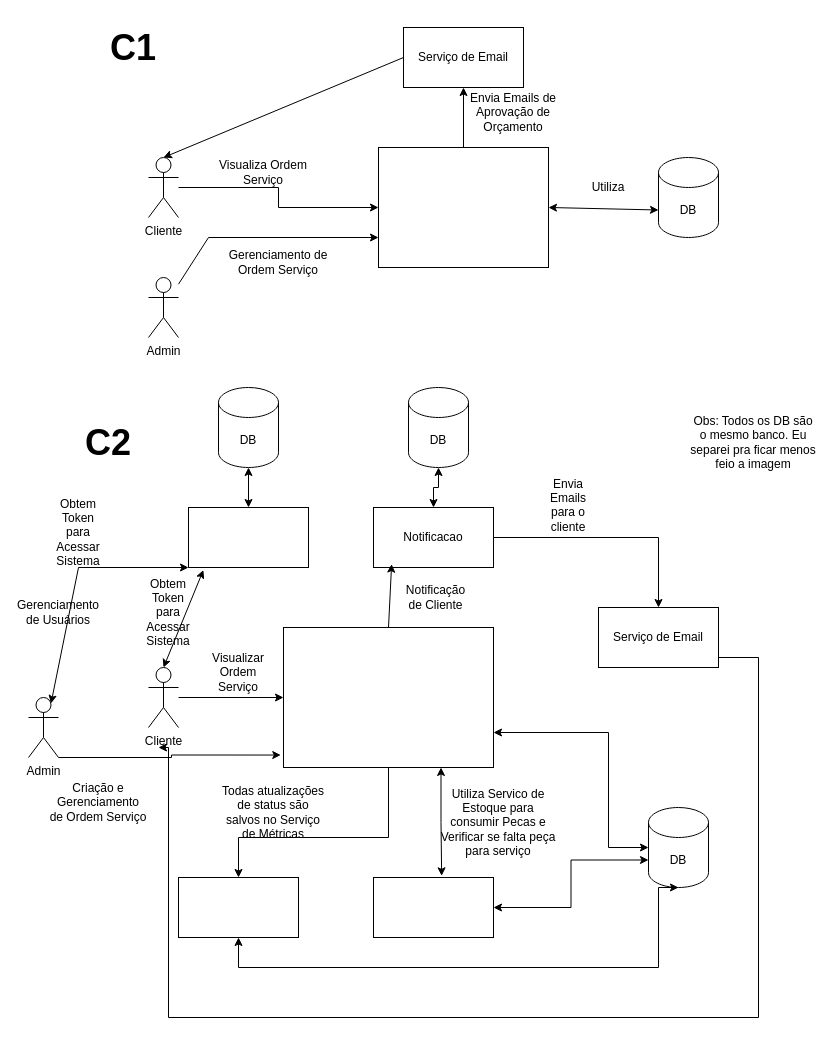
This 835x1043 diagram has some shape labels left out. Each missing label, with the centre of its shape:
Estoque: the point at 433,907
Identidade (Identity / Autenticação ): the point at 248,537
Metricas: the point at 238,907
Ordem Serviço: the point at 388,697
Sistema Mecânica: the point at 463,207
